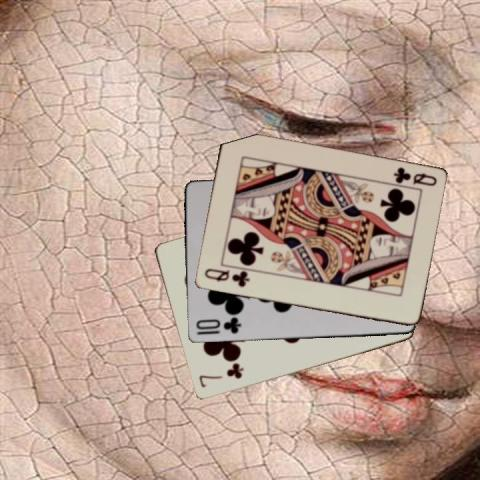10c: (192, 315, 243, 337)
7c: (196, 362, 246, 389)
Qc: (200, 265, 250, 289), (390, 165, 438, 188)
